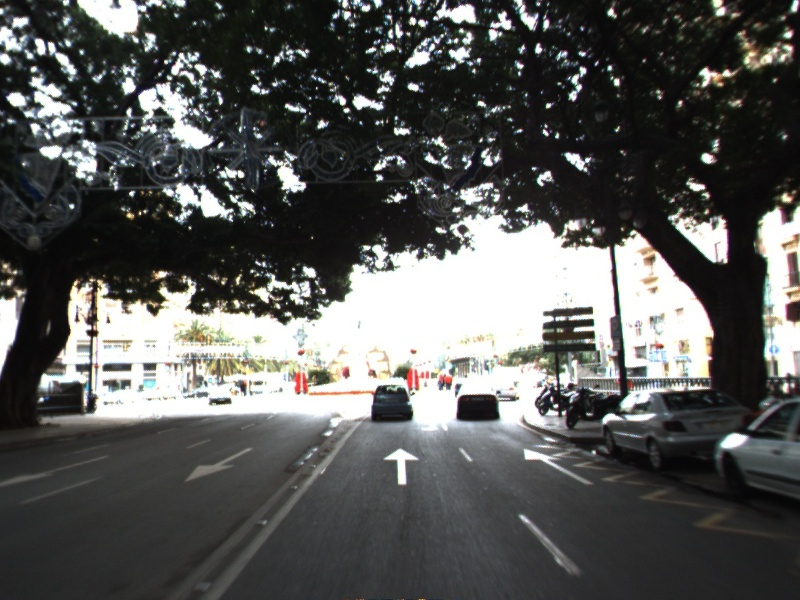STRAIGHT: (522, 446, 597, 487), (382, 446, 422, 487)
